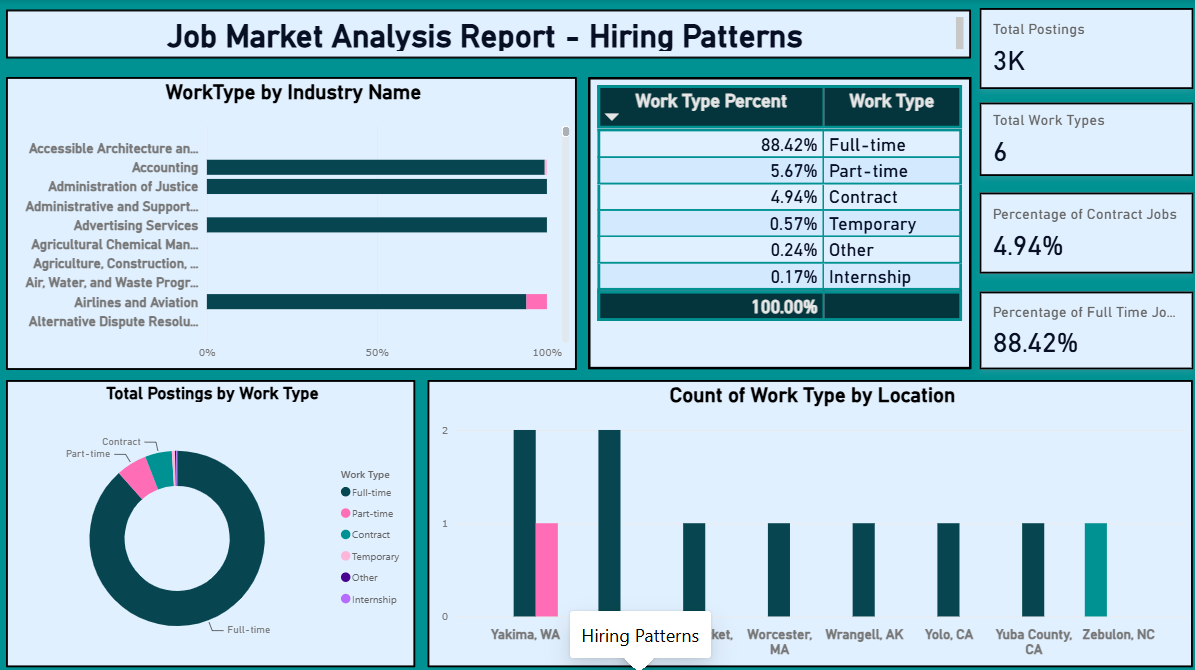

This screenshot's page, from the dashboard's own definition file:
{"tool":"powerbi","page":{"name":"Hiring Patterns","canvas":[1280,720],"ordinal":2},"visuals":[{"type":"textbox","box":[9.7,11.3,1023.4,51.8],"z":0},{"type":"cardVisual","fields":{"Data":["postings.Total Postings"]},"box":[1041.2,9.7,228.3,85.8],"z":1000},{"type":"cardVisual","fields":{"Data":["postings.% Full-time"]},"box":[1041.2,310.9,228.3,82.6],"z":2000},{"type":"cardVisual","fields":{"Data":["postings.% Contract"]},"box":[1041.2,205.6,228.3,85.8],"z":3000},{"type":"cardVisual","fields":{"Data":["Count(postings.formatted_work_type)"]},"box":[1041.2,110.1,228.3,77.7],"z":4000},{"type":"donutChart","fields":{"Y":["postings.Total Postings"],"Category":["postings.formatted_work_type"]},"box":[9.7,404.8,434,304.4],"z":5000},{"type":"hundredPercentStackedBarChart","title":"WorkType by Industry Name","fields":{"Category":["industries.industry_name"],"Series":["postings.formatted_work_type"],"Y":["CountNonNull(postings.formatted_work_type)"]},"box":[9.7,82.6,605.6,310.9],"z":6000},{"type":"clusteredColumnChart","title":"Count of Work Type by Location","fields":{"Category":["postings.location"],"Y":["CountNonNull(postings.formatted_work_type)"],"Series":["postings.formatted_work_type"]},"box":[456.6,404.8,812.9,304.4],"z":7000},{"type":"tableEx","fields":{"Values":["postings.COUNT % by type","postings.formatted_work_type"]},"box":[626.7,83.3,406.7,310],"z":8000}]}

Visuals, with their boxes in screenshot pixels (x1, y1, x2, y2), scaled from the page's 1280x720 canvas onto the 1195x670 screenshot:
textbox: (9,11,964,59)
cardVisual - postings.Total Postings: (972,9,1185,89)
cardVisual - postings.% Full-time: (972,289,1185,366)
cardVisual - postings.% Contract: (972,191,1185,271)
cardVisual - Count(postings.formatted_work_type): (972,102,1185,175)
donutChart - postings.Total Postings x postings.formatted_work_type: (9,377,414,660)
"WorkType by Industry Name" hundredPercentStackedBarChart: (9,77,574,366)
"Count of Work Type by Location" clusteredColumnChart: (426,377,1185,660)
tableEx - postings.COUNT % by type x postings.formatted_work_type: (585,78,965,366)
